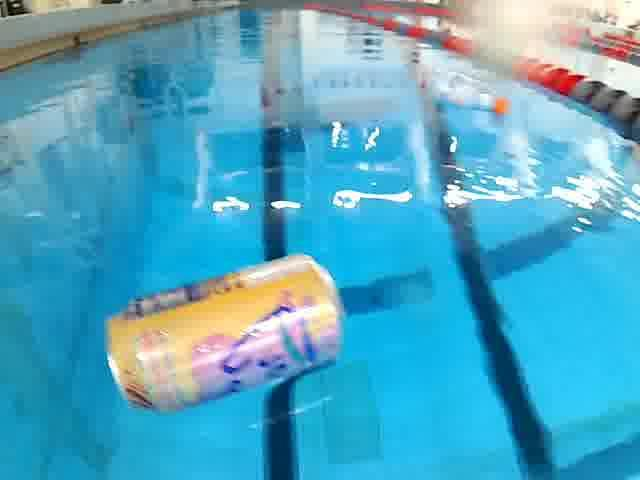Can: (104, 252, 347, 417)
